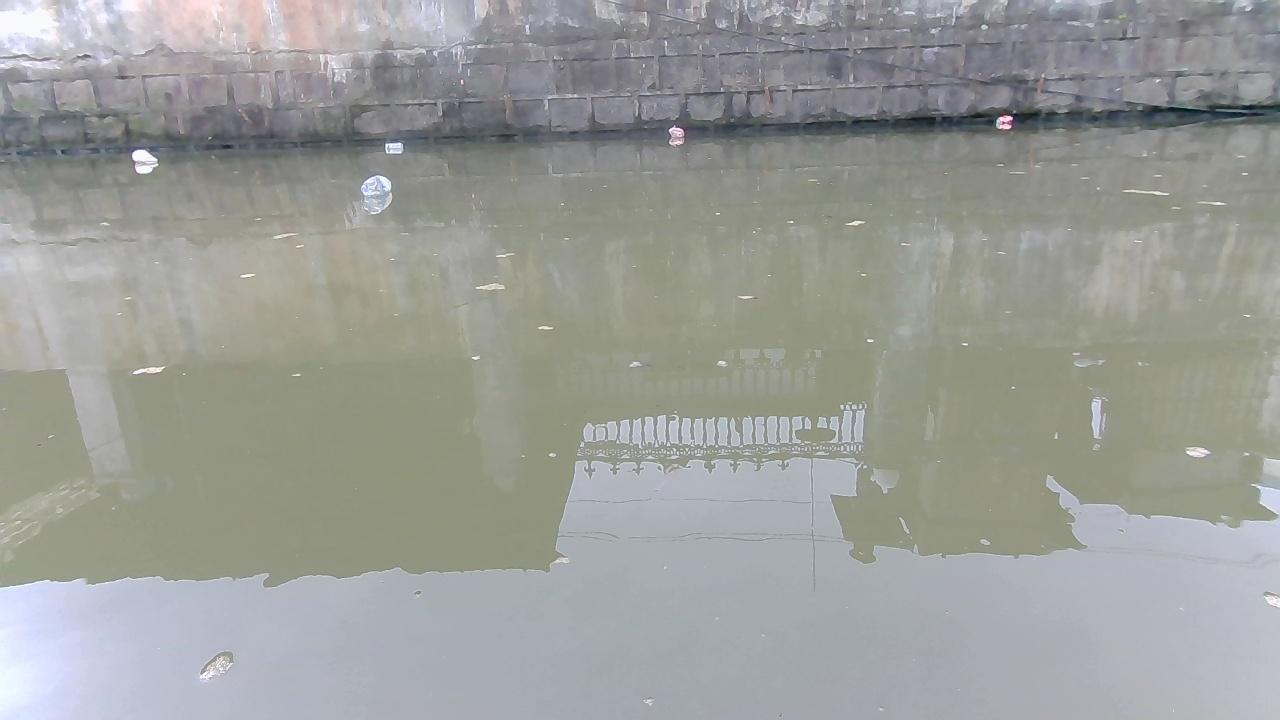bottle: (358, 173, 391, 197), (127, 144, 158, 166), (664, 125, 686, 144), (385, 140, 406, 153), (995, 112, 1011, 127)
